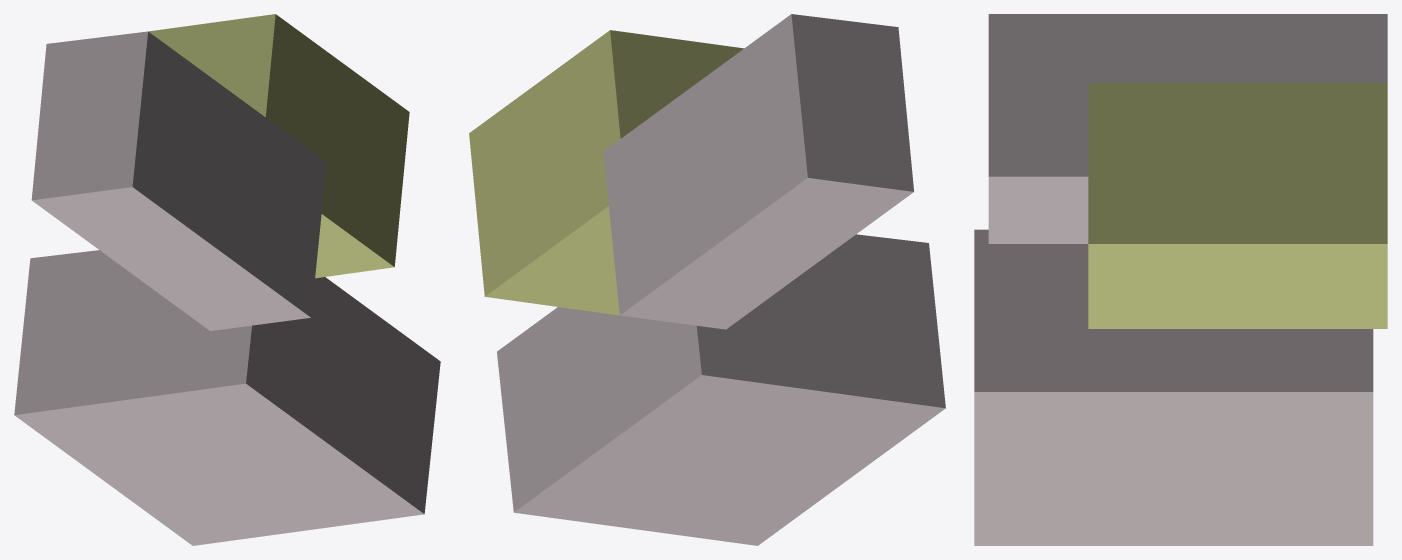
3 renders of one model, left to right at view 1: azimuth 30°, elevation 25°; view 2: azimuth 150°, elevation 25°; view 3: azimuth 270°, elevation 25°, orthographic. The views are drawn at different scales.
Visible parts, largest first — view 1: 0_1_3_2_2_1_0_2_0_1_0; view 2: 0_1_3_2_2_1_0_2_0_1_0; view 3: 0_1_3_2_2_1_0_2_0_1_0.
Part boxes in pixels (<box>): 0_1_3_2_2_1_0_2_0_1_0: <box>14,14,440,545</box>; 0_1_3_2_2_1_0_2_0_1_0: <box>469,14,945,545</box>; 0_1_3_2_2_1_0_2_0_1_0: <box>974,14,1387,545</box>.
Size of the model in its own units: 10.39 by 14.16 by 12.43.
